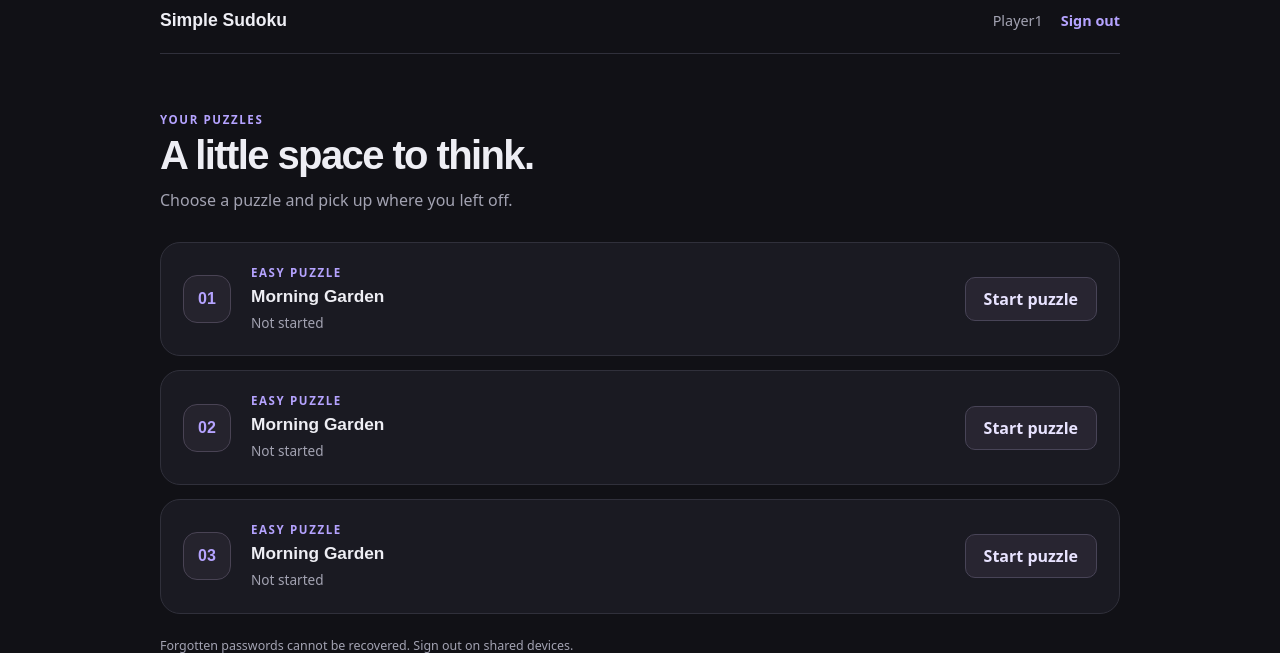
Test: player journey › clears retained owner entries when reauthentication selects a different account
Click the 1st button "Start puzzle". click: (1031, 299)
box: [965,277,1097,321]
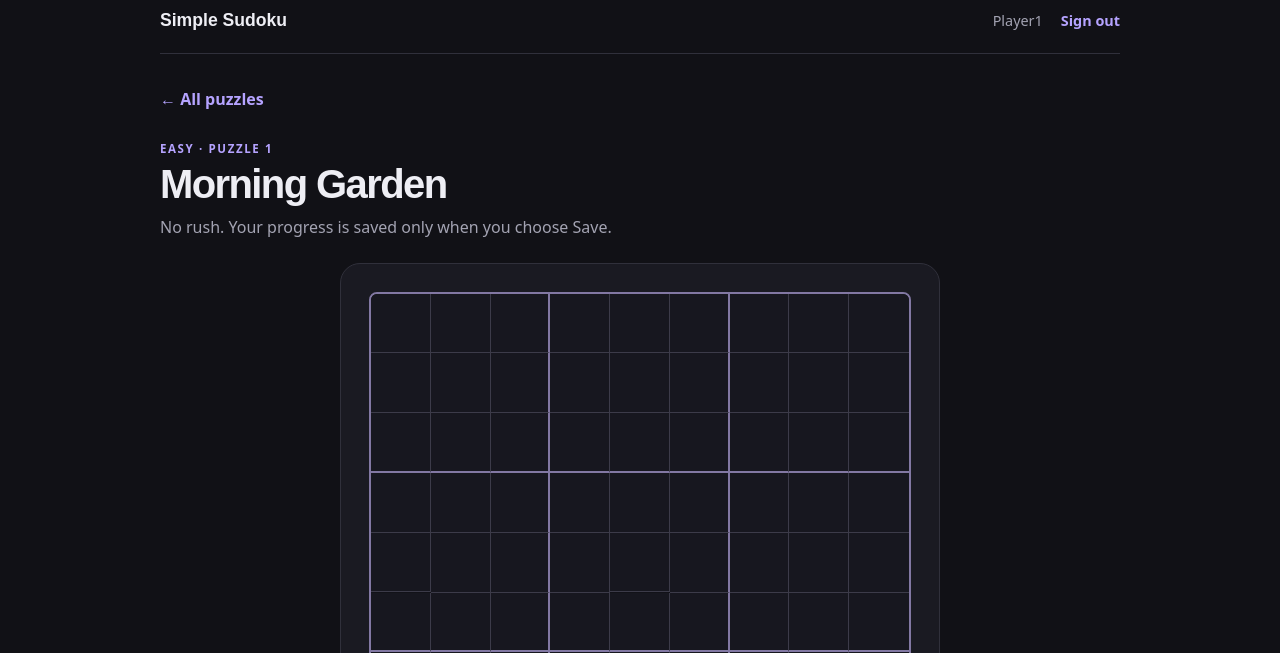
Type "8" into the field named "Row 1, column 1". click: (401, 324)
box: [371,294,431,353]
(page scrolled)
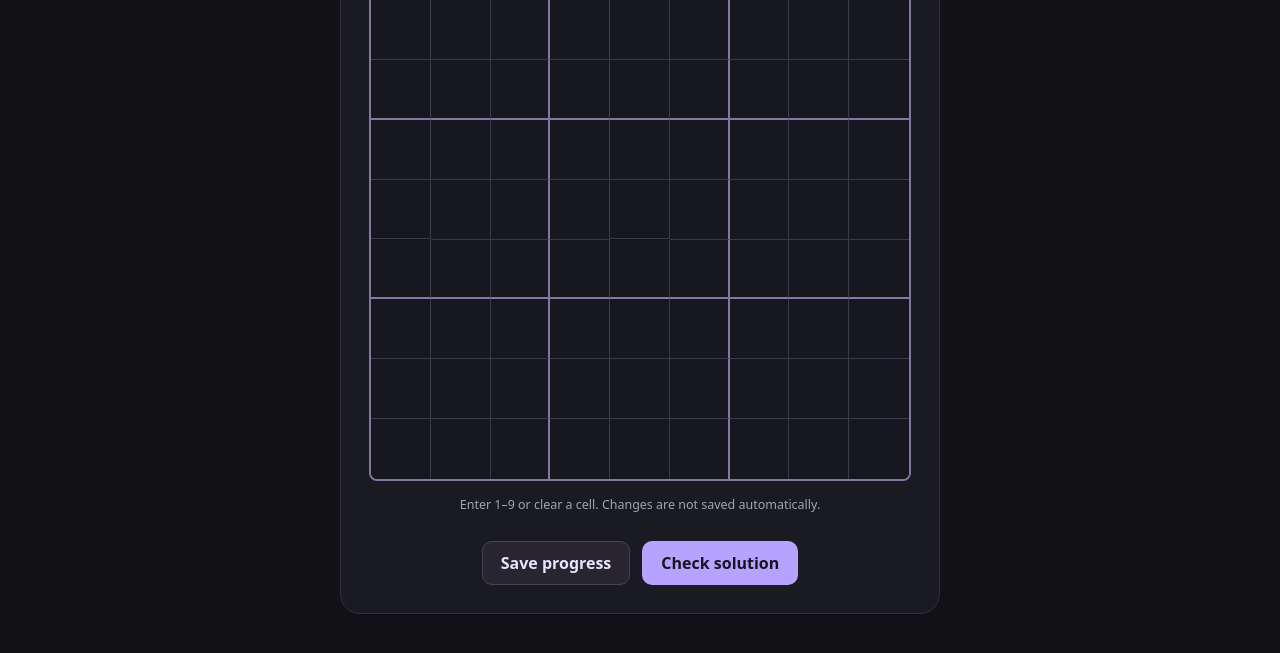
Click the button "Save progress". click: (556, 563)
box: [482,541,630,585]
(page scrolled)
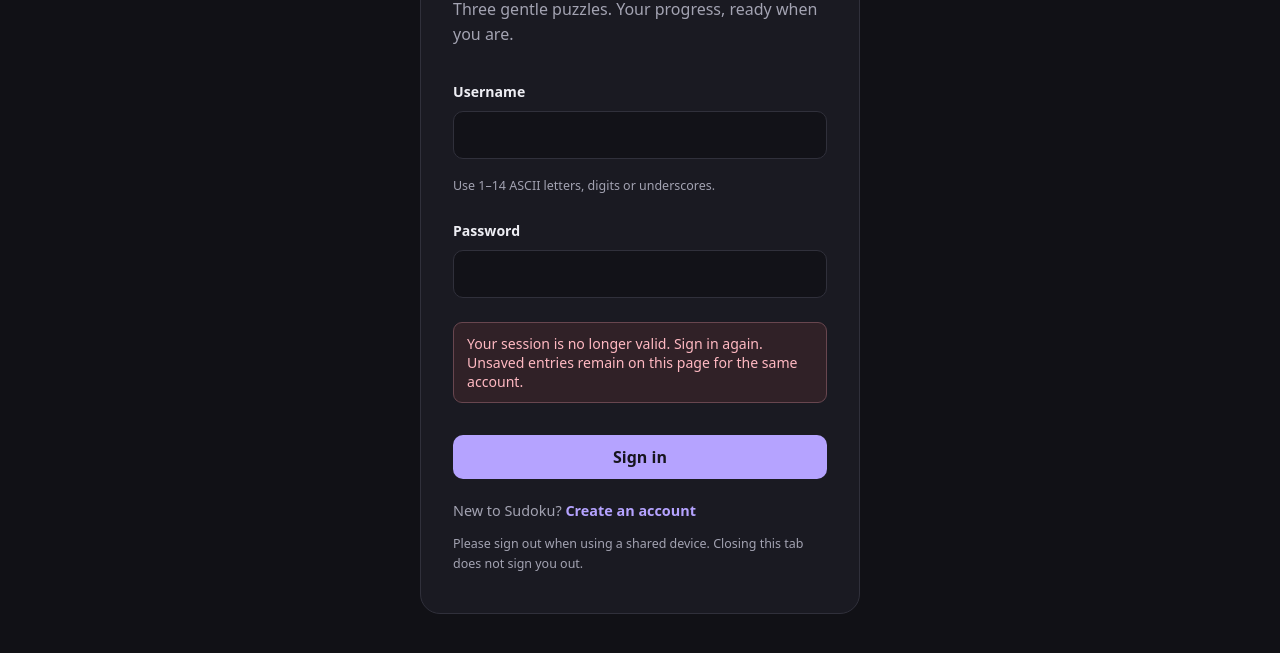
Now the text "Your session is no longer valid" is shown, box [467,334,798,391]
Type "OtherPlayer" into the field labelled "Username". click: (640, 135)
box: [453,111,827,159]
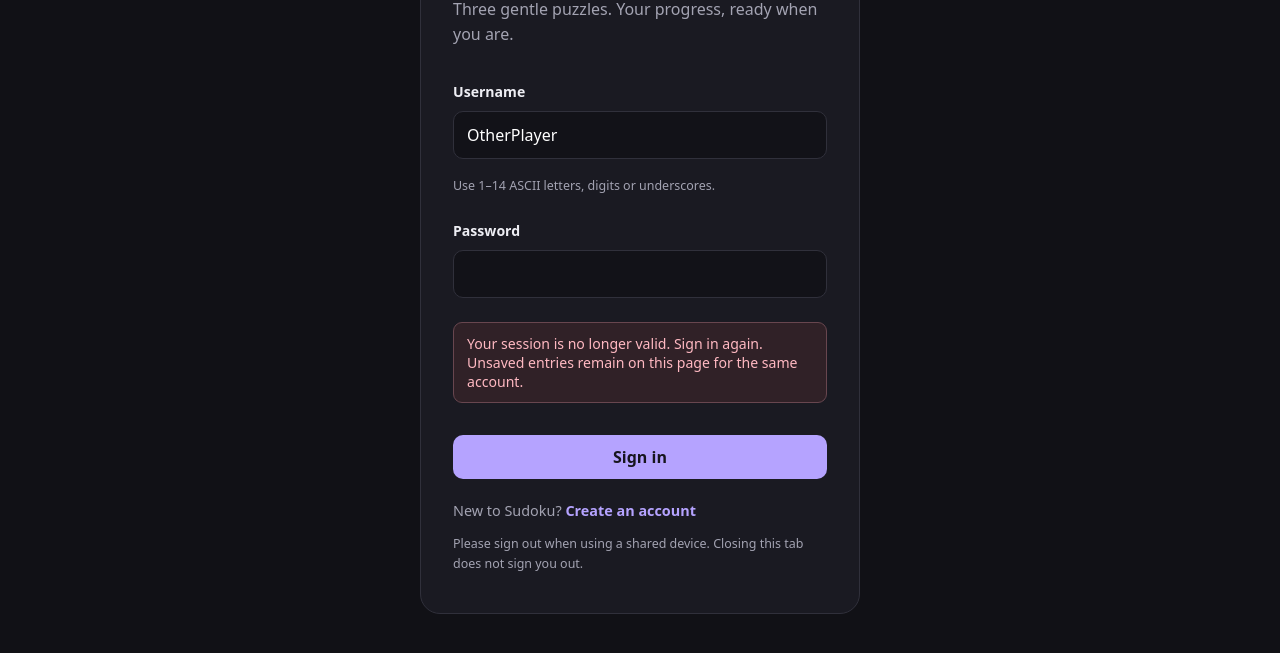
Type "Password1" into the password field labelled "Password". click: (640, 274)
box: [453,250,827,298]
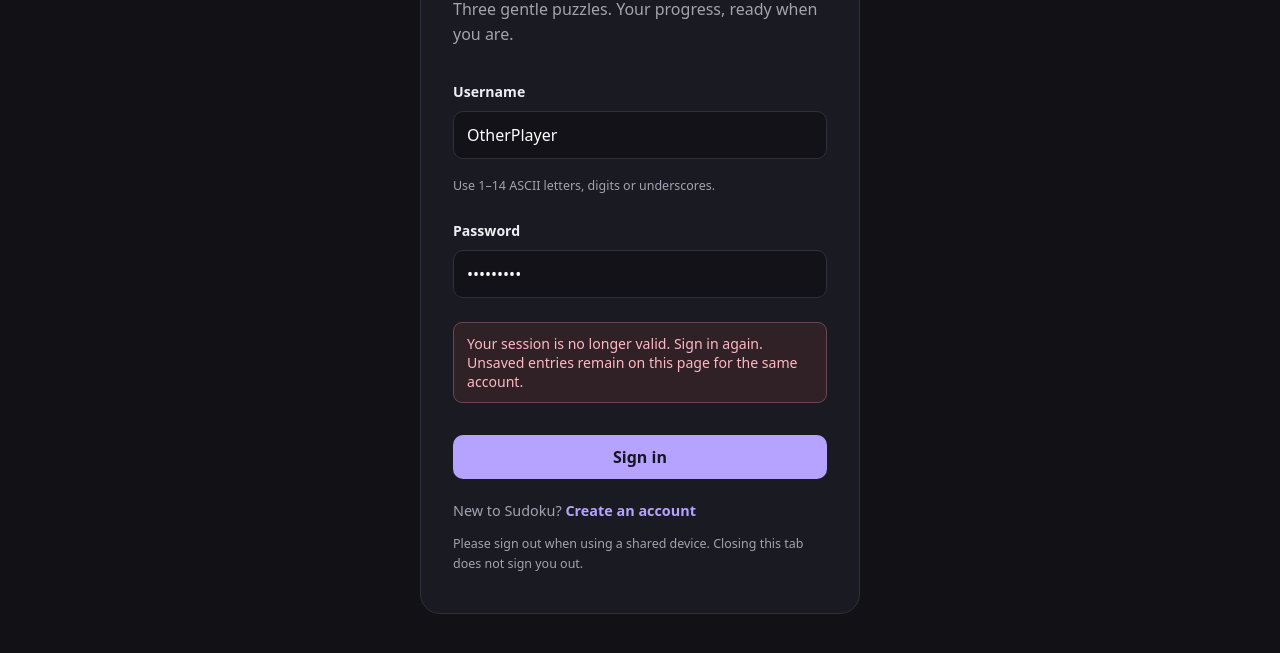
Click the button "Sign in". click: (640, 457)
box: [453,435,827,479]
(page scrolled)
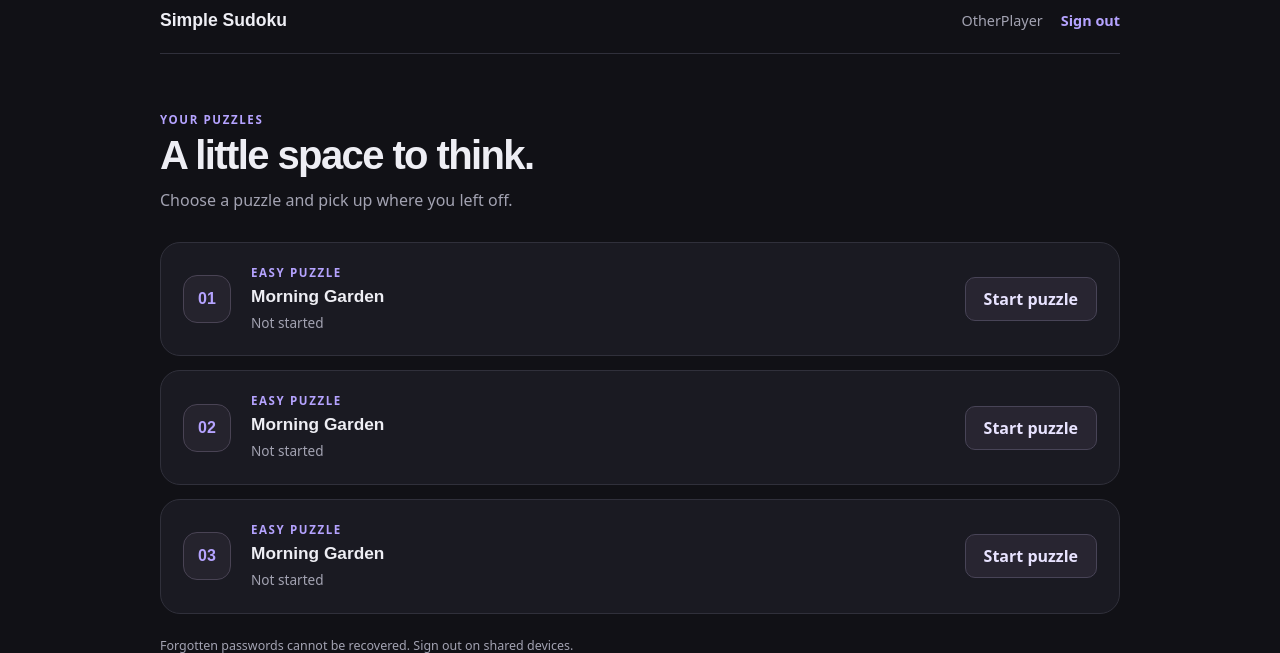
Expected: the text "Player1" is not shown
Now the text "OtherPlayer" is shown, box [962,11,1043,30]
